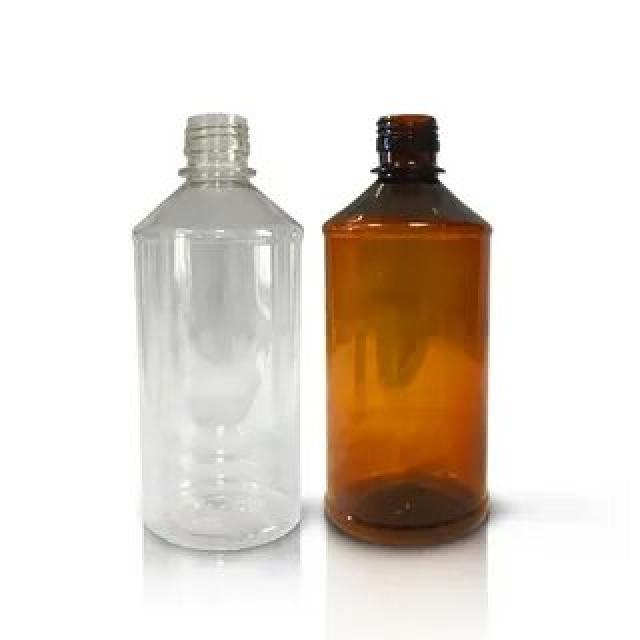brown: (320, 112, 492, 548)
